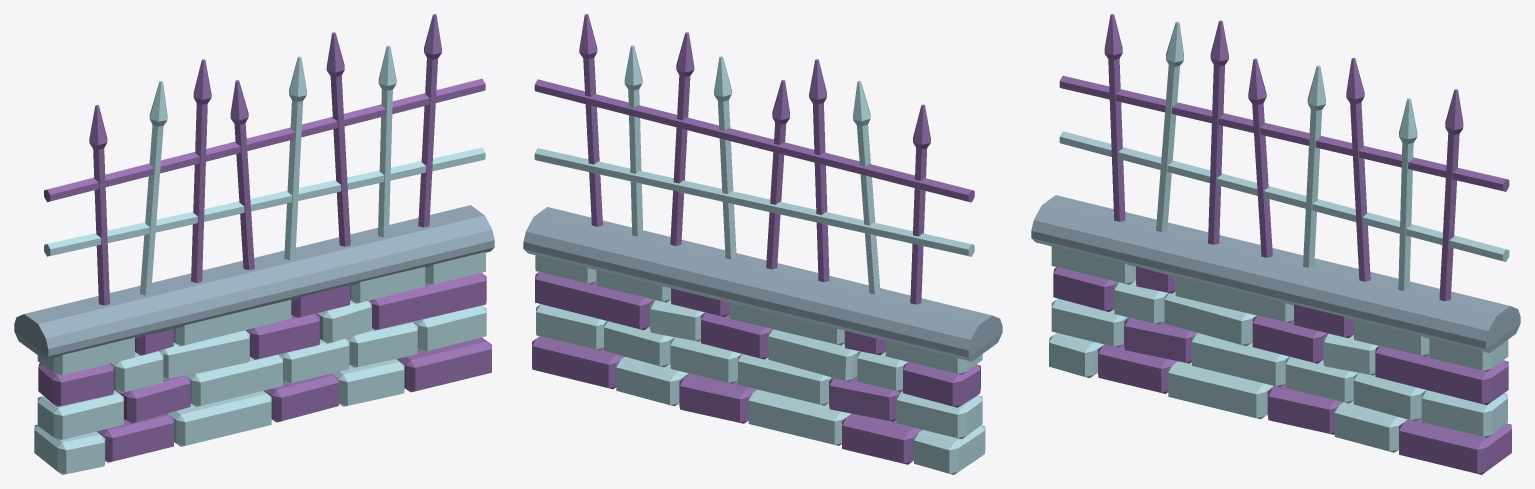
Rendered from SM_FenceB.fbx.
3 views of the same model, side by side, from view 1: azimuth 30°, elevation 25°; view 2: azimuth 150°, elevation 25°; view 3: azimuth 330°, elevation 25° (orthographic). The views are drawn at different scales.
Parts seen in each view (by area): view 1: FenceB; view 2: FenceB; view 3: FenceB.
Boxes of the visible parts, x1,y1,x2,y2 form: FenceB: (14, 14, 494, 474); FenceB: (523, 14, 1002, 474); FenceB: (1031, 14, 1520, 474).
Bounding box in the file's own units: 202 × 159 × 29.42.
